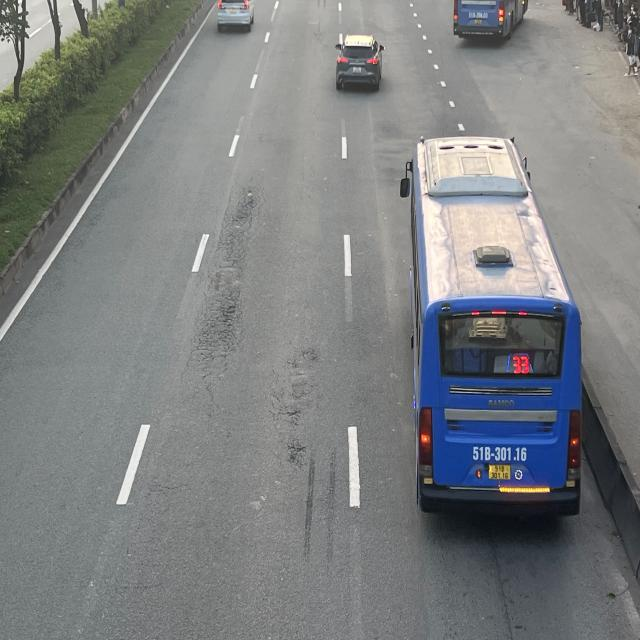car: (334, 35, 384, 93)
coach: (399, 134, 579, 515), (454, 1, 534, 40)
